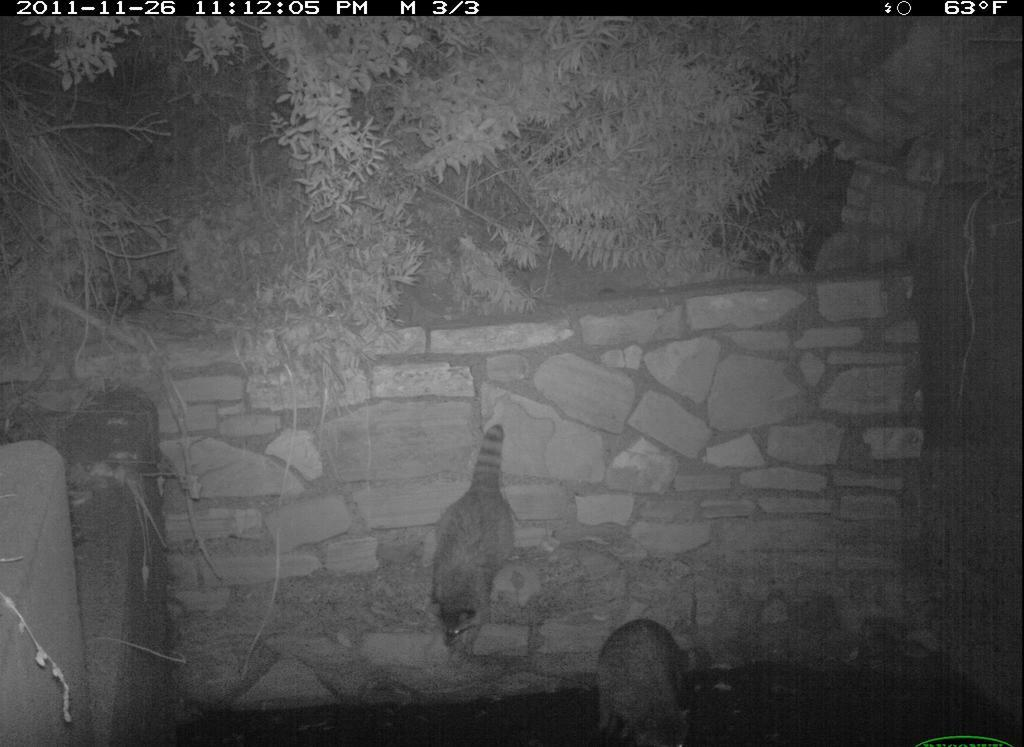raccoon: (419, 418, 536, 666), (585, 605, 713, 747)
